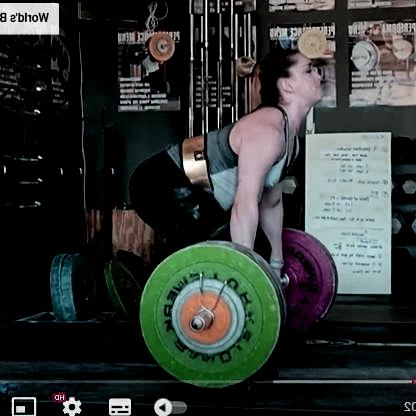Barbell: (185, 315, 206, 334)
